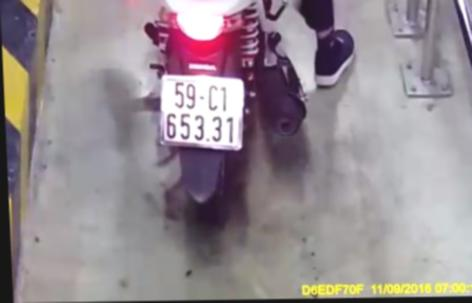License_Plate: (145, 67, 257, 158)
